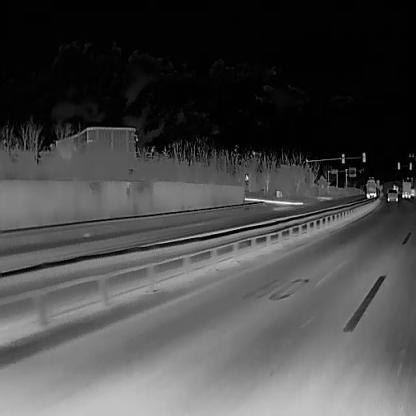car: (364, 175, 377, 198), (401, 181, 411, 198), (386, 189, 397, 202), (409, 188, 415, 197), (392, 184, 398, 193)
